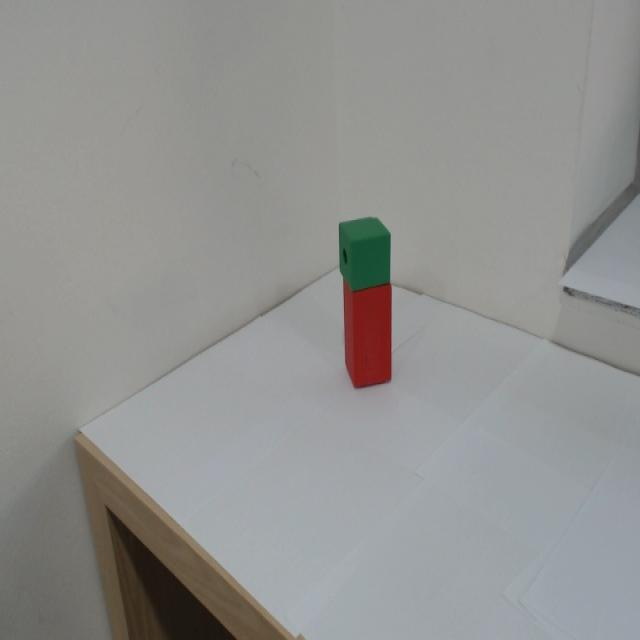cube: (321, 195, 404, 297)
